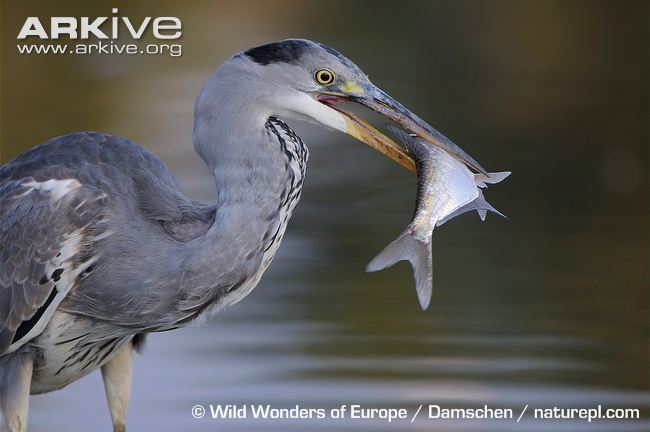heron: (13, 42, 500, 418)
